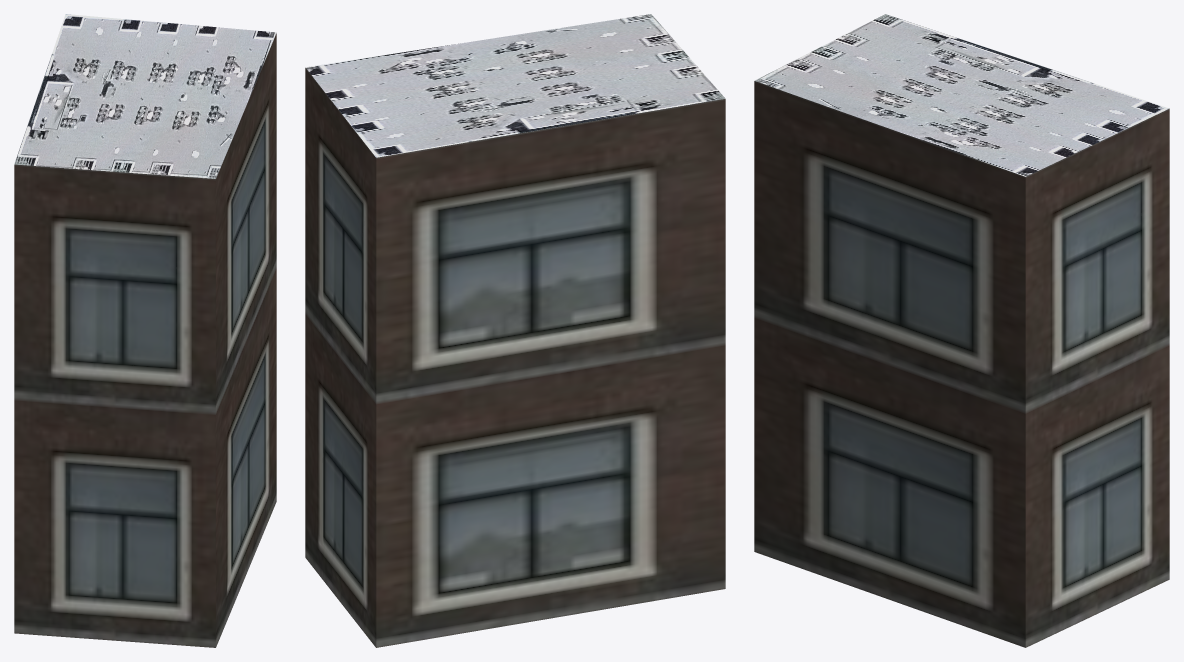
File: ResTex__5284.fbx
3 renders of one model, left to right at view 1: azimuth 30°, elevation 25°; view 2: azimuth 150°, elevation 25°; view 3: azimuth 270°, elevation 25°, orthographic. The views are drawn at different scales.
Parts seen in each view (by area): view 1: CityEngineMaterial_16_m, CityEngineMaterial_15_m; view 2: CityEngineMaterial_16_m, CityEngineMaterial_15_m; view 3: CityEngineMaterial_16_m, CityEngineMaterial_15_m.
Part boxes in pixels (x1,y1,x2,y2): CityEngineMaterial_16_m: (14,33,276,647); CityEngineMaterial_15_m: (14,14,276,178); CityEngineMaterial_16_m: (305,68,725,647); CityEngineMaterial_15_m: (305,14,725,157); CityEngineMaterial_16_m: (754,81,1169,647); CityEngineMaterial_15_m: (754,14,1169,176).
Bounding box in the file's own units: 4.45 × 6 × 4.8.
Materials: 2 (2 with a texture image).
